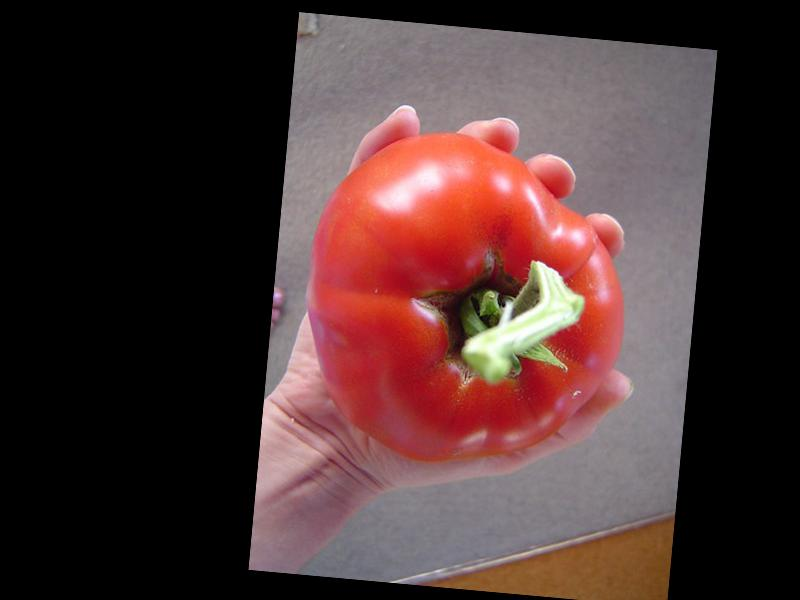Tomato: (294, 121, 640, 477)
